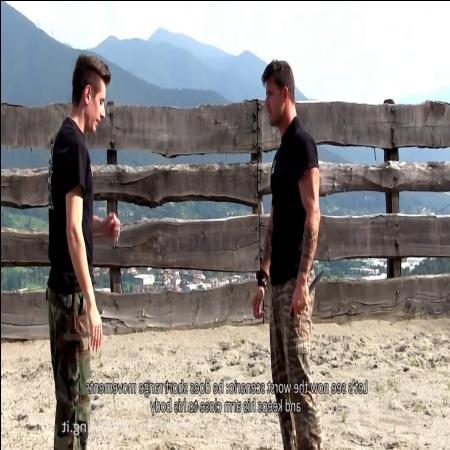long weapon: (288, 266, 326, 322)
